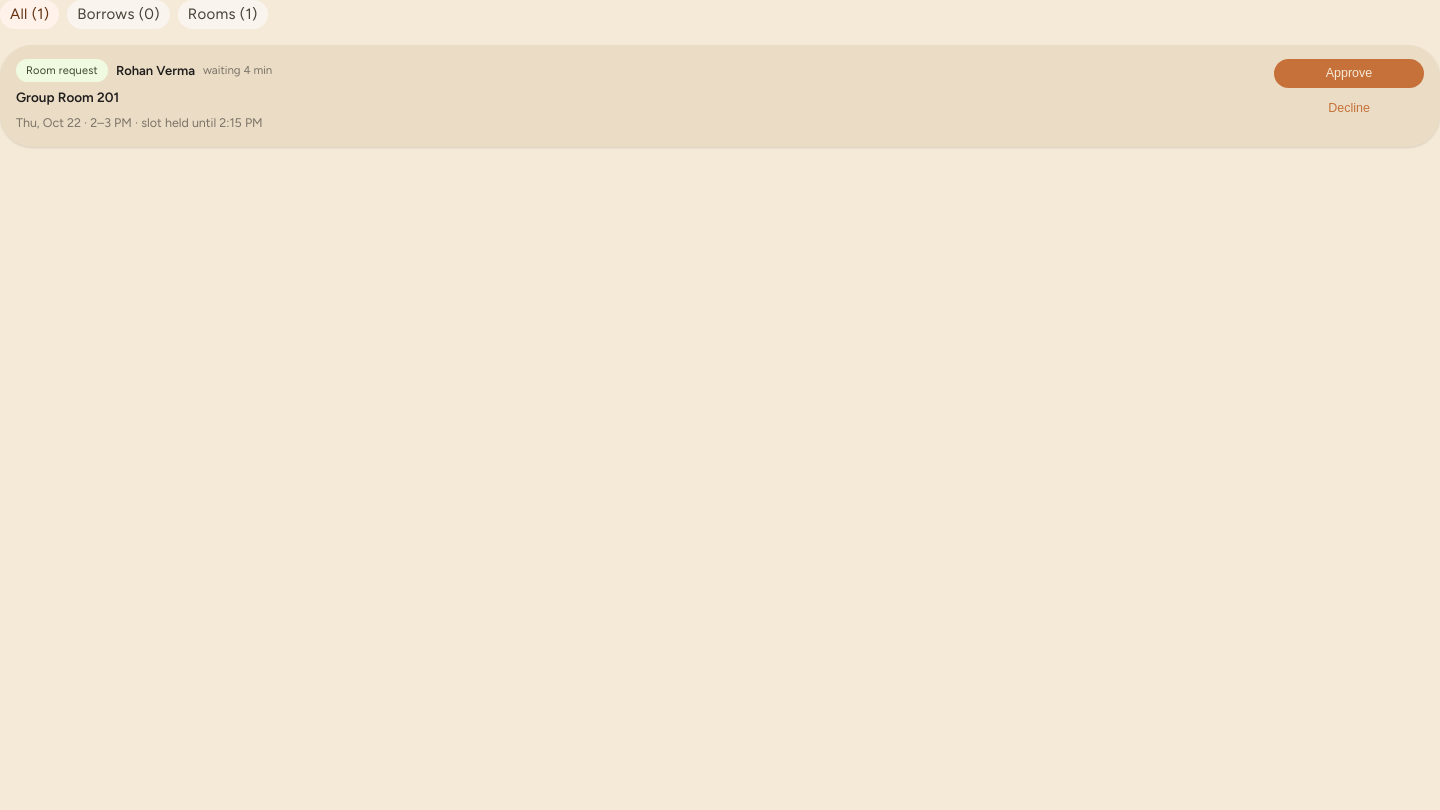
Scenario: Requests page › Escape cancels the decline dialog and puts focus back on Decline
Click the button "Decline".
click(1349, 109)  # box x1=1274 y1=94 x2=1424 y2=123
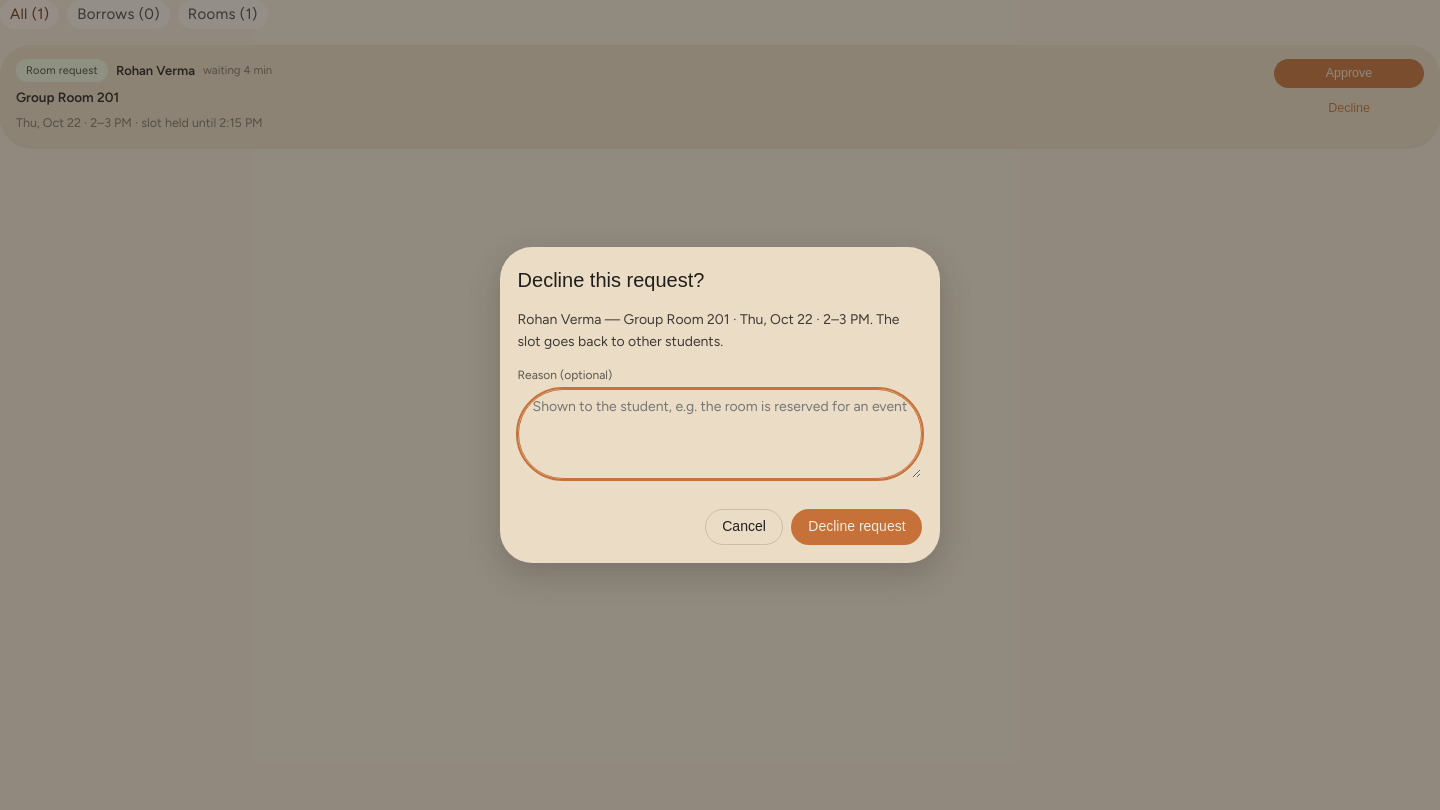
Check: the dialog "Decline this request?" is shown, box x1=500 y1=247 x2=940 y2=563
Press Escape
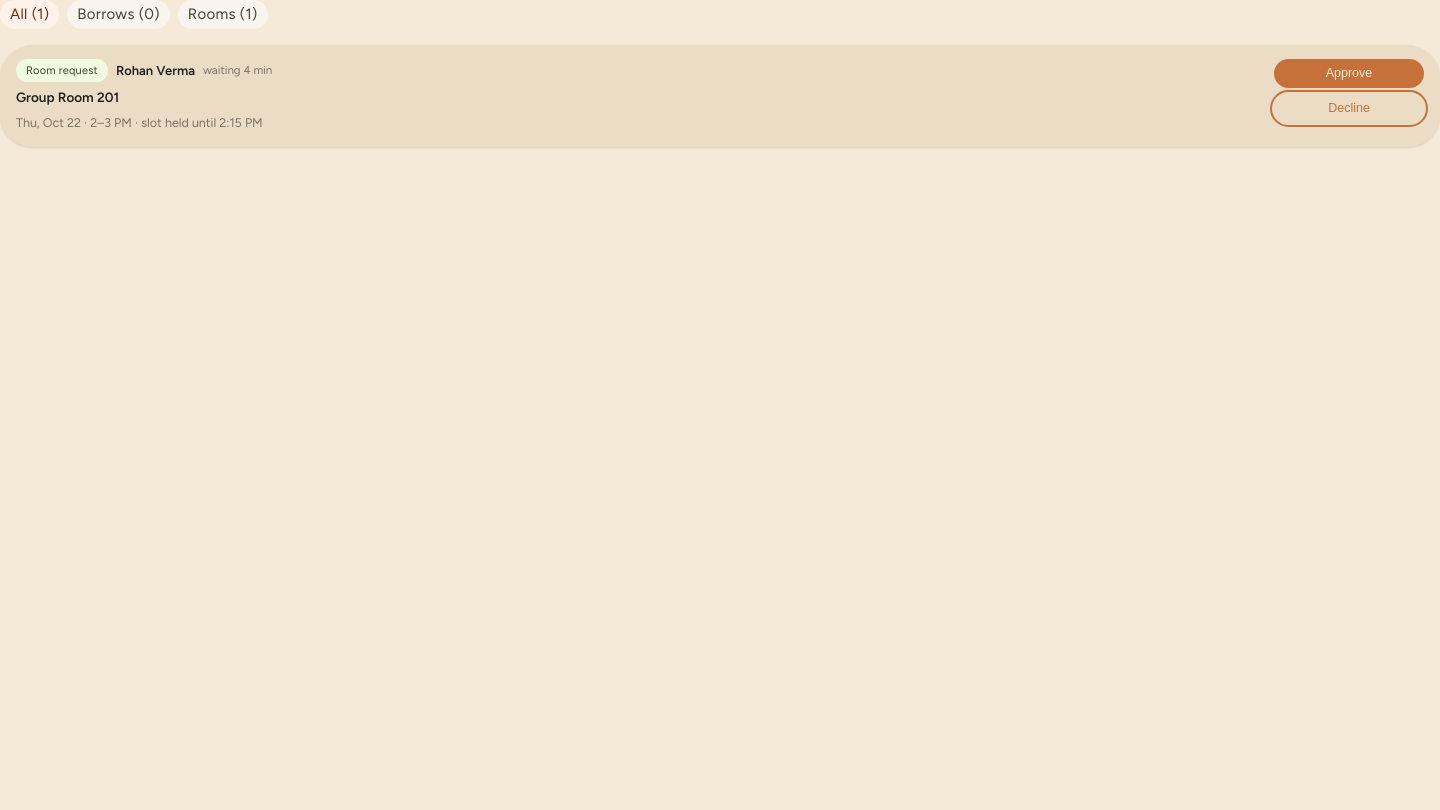
Check: the dialog is gone
